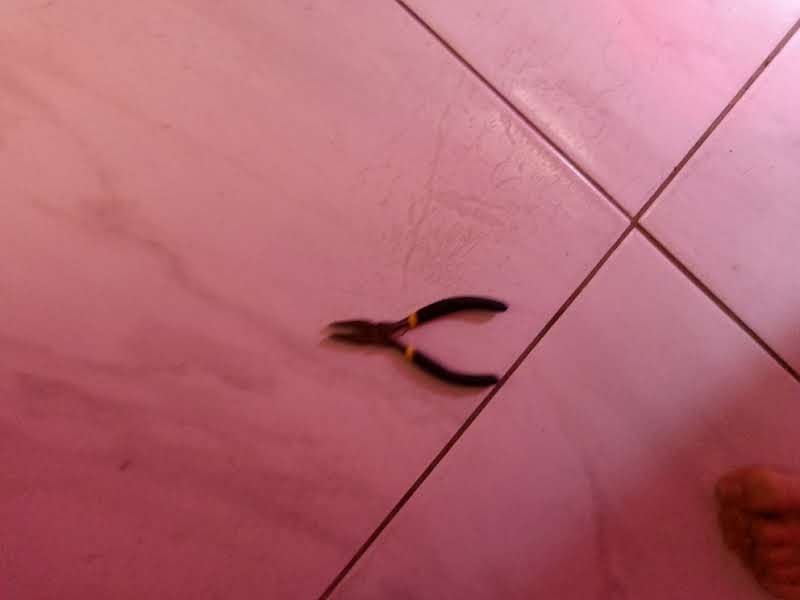Pinzas: (335, 296, 506, 385)
